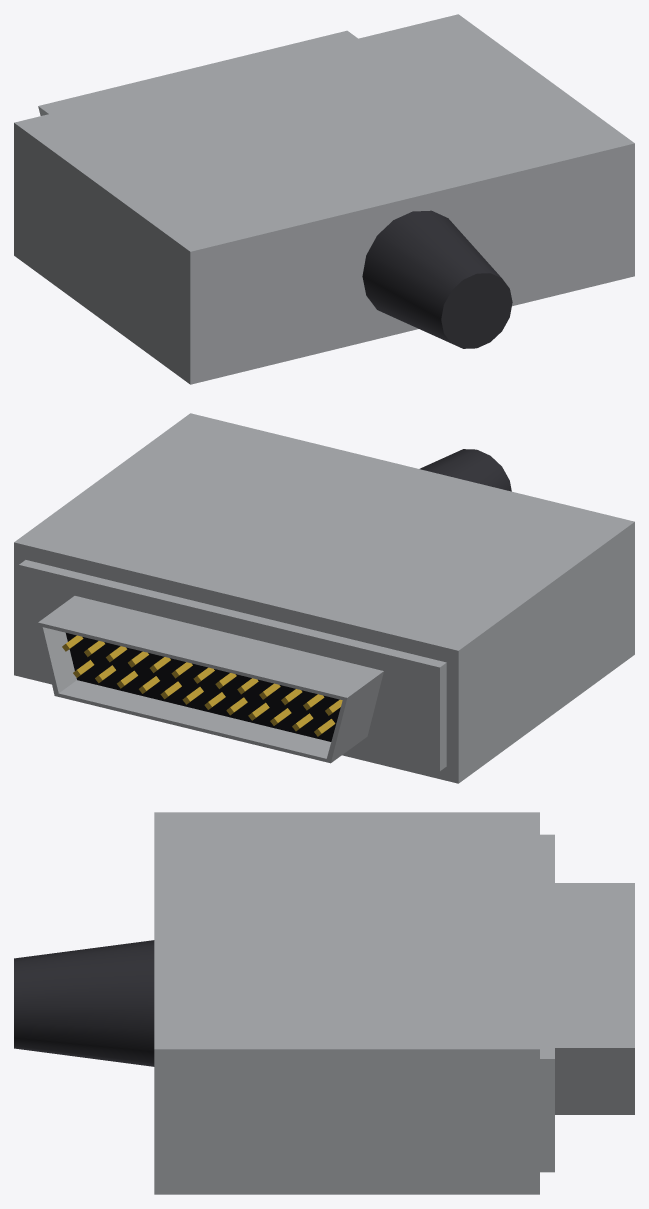
The model's file is dsub25.glb.
3 renders of one model, top to bottom at view 1: azimuth 30°, elevation 25°; view 2: azimuth 150°, elevation 25°; view 3: azimuth 270°, elevation 25°, orthographic. The views are drawn at different scales.
Parts seen in each view (by area): view 1: dsub25-body; view 2: dsub25-body; view 3: dsub25-body.
Boxes of the visible parts, x1,y1,x2,y2 form: dsub25-body: (14, 14, 634, 384); dsub25-body: (14, 413, 634, 783); dsub25-body: (14, 812, 634, 1194).
Size of the model in its own units: 0.056 by 0.016 by 0.062.
